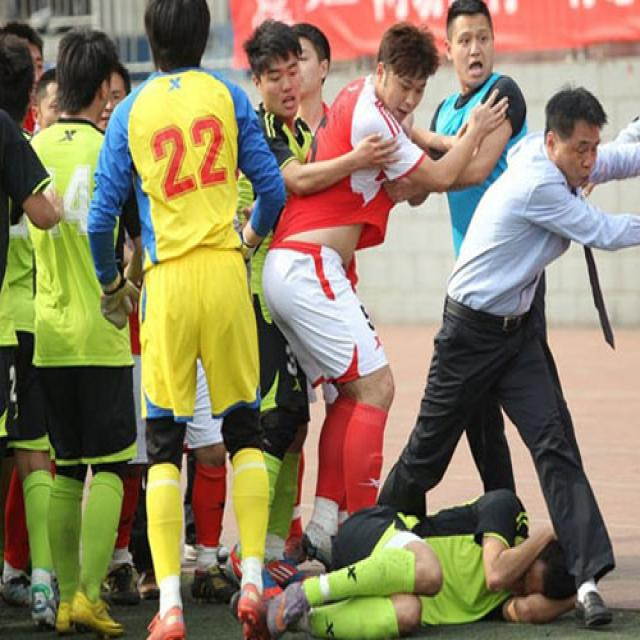10-: (0, 0, 638, 638)
down: (228, 485, 577, 637)
